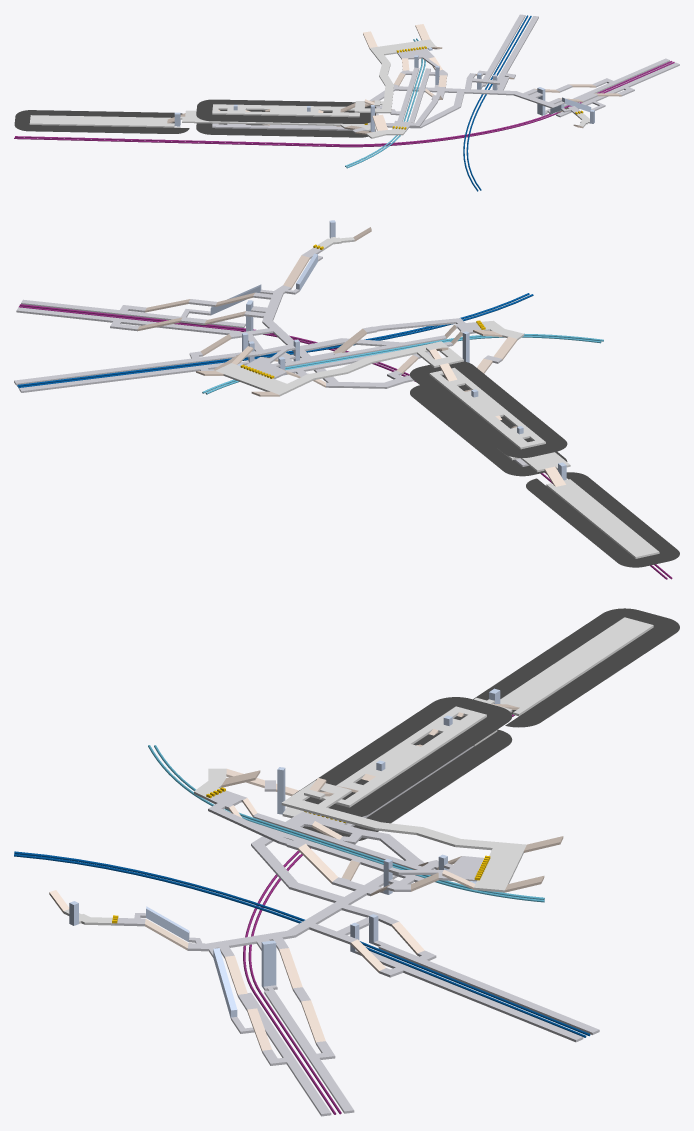
File: pl_castilla.glb
3 renders of one model, top to bottom at view 1: azimuth 30°, elevation 25°; view 2: azimuth 150°, elevation 25°; view 3: azimuth 270°, elevation 25°, orthographic. The views are drawn at different scales.
Parts seen in each view (by area): view 1: path1121.001, path1133, path1114, path4273, rect4658-1-2, rect4619-5-3, path1121, path4267, rect4642-3-2, path4269, path7345, path1137 (+5 smaller); view 2: path1121.001, path1114, path4273, path4269, path4267, rect4642-3-2, rect4658-1-2, rect4619-5-3, path1121, path1137, path7345, path1133 (+4 smaller); view 3: path1121.001, path1114, path4273, path4269, rect4642-3-2, rect4658-1-2, path4267, rect4619-5-3, path1137, path1121, path7345, path1143 (+3 smaller).
Boxes of the visible parts, box(x1,y1,x2,y2) form: path1121.001: box(196, 99, 376, 123); path1133: box(14, 61, 674, 147); path1114: box(14, 110, 189, 133); path4273: box(365, 73, 564, 128); rect4658-1-2: box(29, 115, 174, 127); rect4619-5-3: box(212, 104, 359, 117); path1121: box(196, 123, 375, 137); path4267: box(545, 58, 679, 117); rect4642-3-2: box(354, 39, 435, 113); path4269: box(477, 14, 597, 102); path7345: box(390, 67, 447, 123); path1137: box(463, 15, 531, 191); path1121.001: box(410, 361, 567, 457); path1114: box(526, 472, 679, 567); path4273: box(229, 285, 432, 388); path4269: box(14, 299, 249, 392); path4267: box(16, 299, 245, 334); rect4642-3-2: box(215, 341, 463, 396); rect4658-1-2: box(546, 479, 659, 558); rect4619-5-3: box(429, 367, 545, 449); path1121: box(410, 385, 567, 476); path1137: box(17, 293, 533, 388); path7345: box(277, 335, 452, 376); path1133: box(19, 304, 672, 579); path1121.001: box(293, 697, 512, 816); path1114: box(473, 608, 679, 727); path4273: box(187, 811, 424, 958); path4269: box(238, 940, 599, 1042); rect4642-3-2: box(281, 780, 526, 892); rect4658-1-2: box(500, 617, 653, 716); path4267: box(231, 985, 354, 1116); rect4619-5-3: box(319, 706, 486, 807); path1137: box(14, 851, 590, 1037); path1121: box(303, 729, 512, 840); path7345: box(249, 813, 438, 891); path1143: box(148, 745, 544, 902).
Size of the model in its own units: 445 by 34 by 258.
